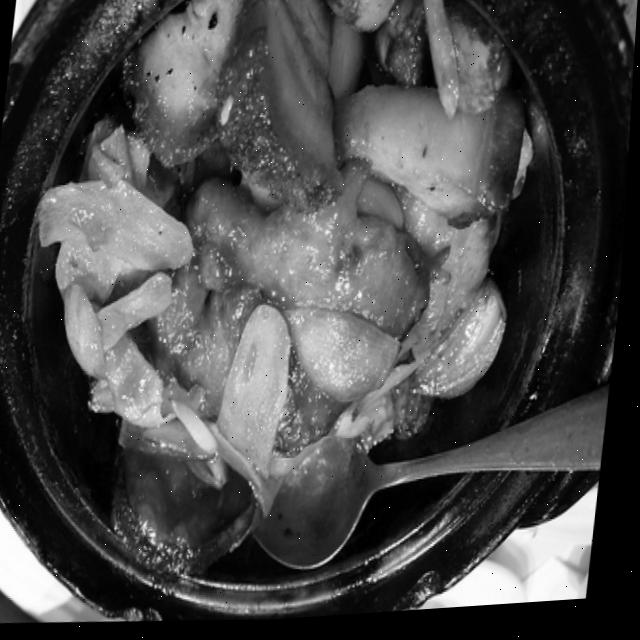汤锅炖物: (0, 0, 625, 633)
